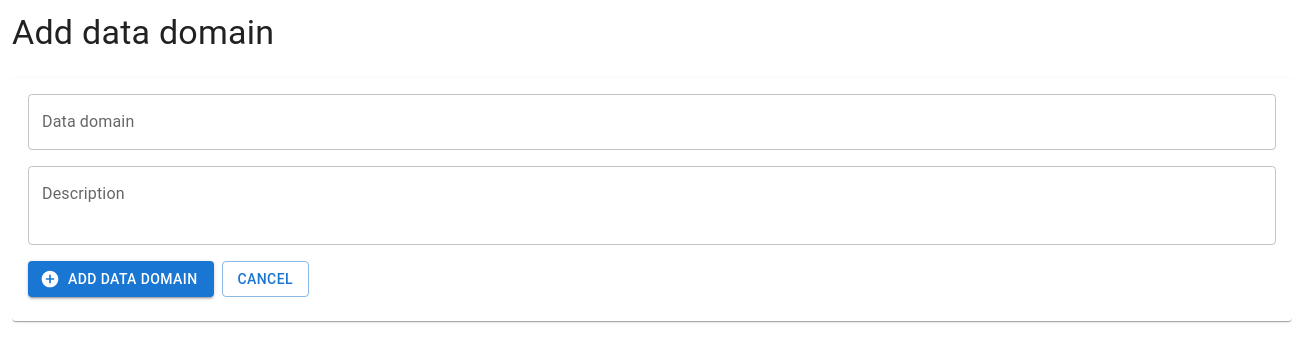
Scenario: DataDomainCreatePage › requires domain name field
Click the button "Add data domain" at (121, 279), box [28, 261, 214, 298]
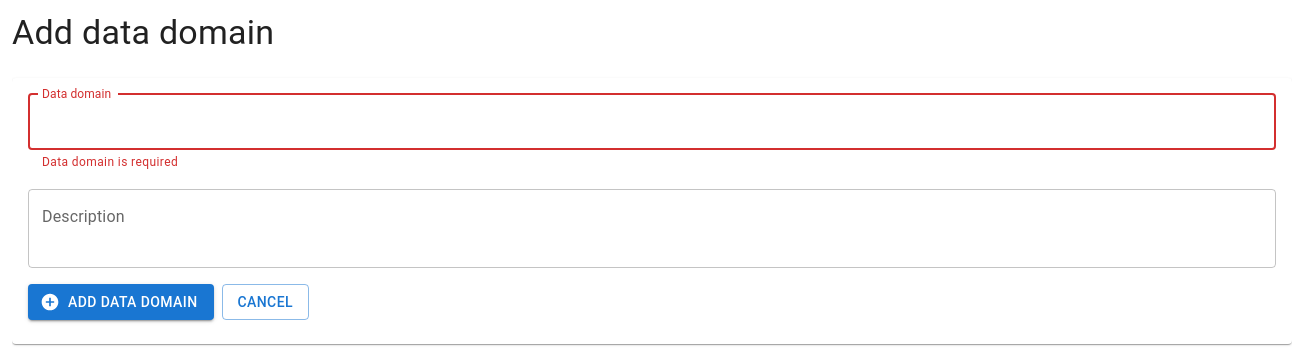
expect the text "Data domain is required" is shown: met, box [42, 155, 178, 169]
